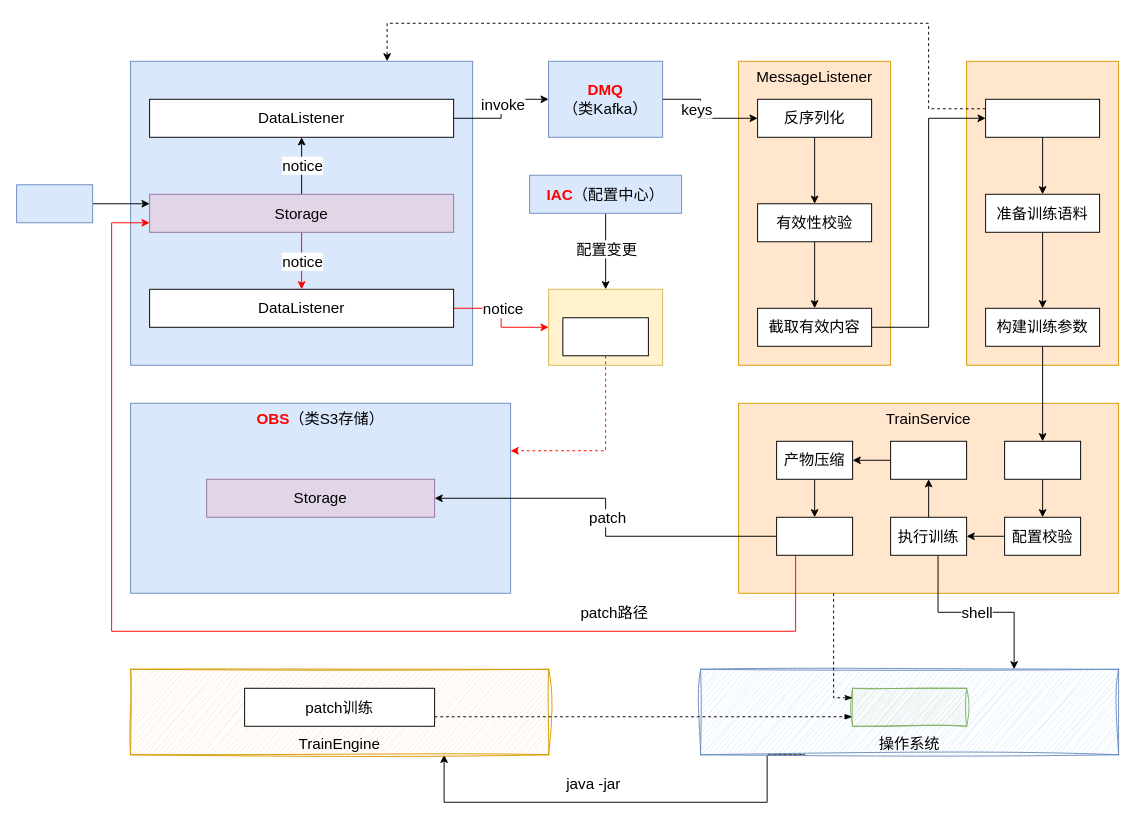
The diagram is 1135 pixels wide and 827 high, and some of its shapes have lost their labels. The shapes that lost their labels are listed below. From the top down, each one's box as (x1, y1, x2, y2) in pixels, then its label:
(985, 98, 1100, 137): 获取IDS结果
(16, 184, 93, 223): HA
(130, 60, 473, 365): IDS （K-V数据库，可以实现数据监听与通知）
(966, 60, 1119, 365): MessageHandler
(562, 317, 648, 356): 获取Patch
(548, 288, 663, 365): ASR
(890, 440, 967, 479): 校验MD5
(1004, 440, 1081, 479): 延时队列
(776, 516, 853, 555): 产物上传
(852, 687, 967, 726): 训练输入与输出 本地文件
